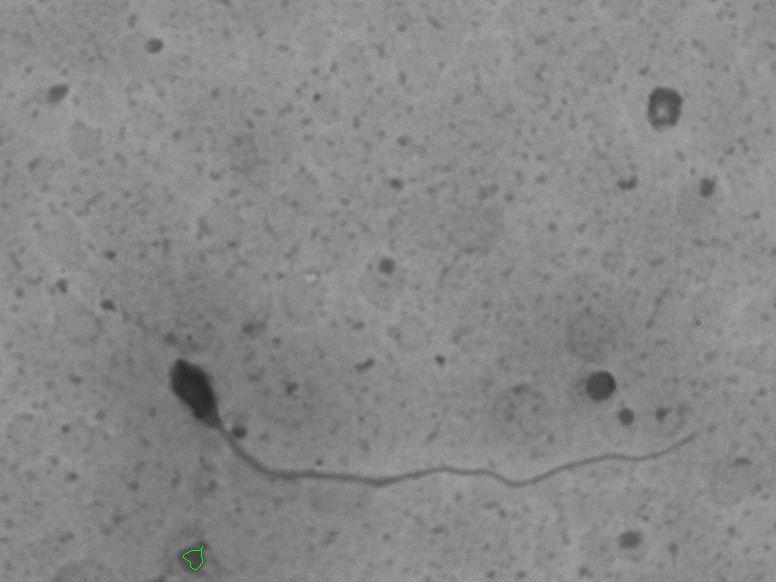Abnormal: (143, 324, 740, 521)
